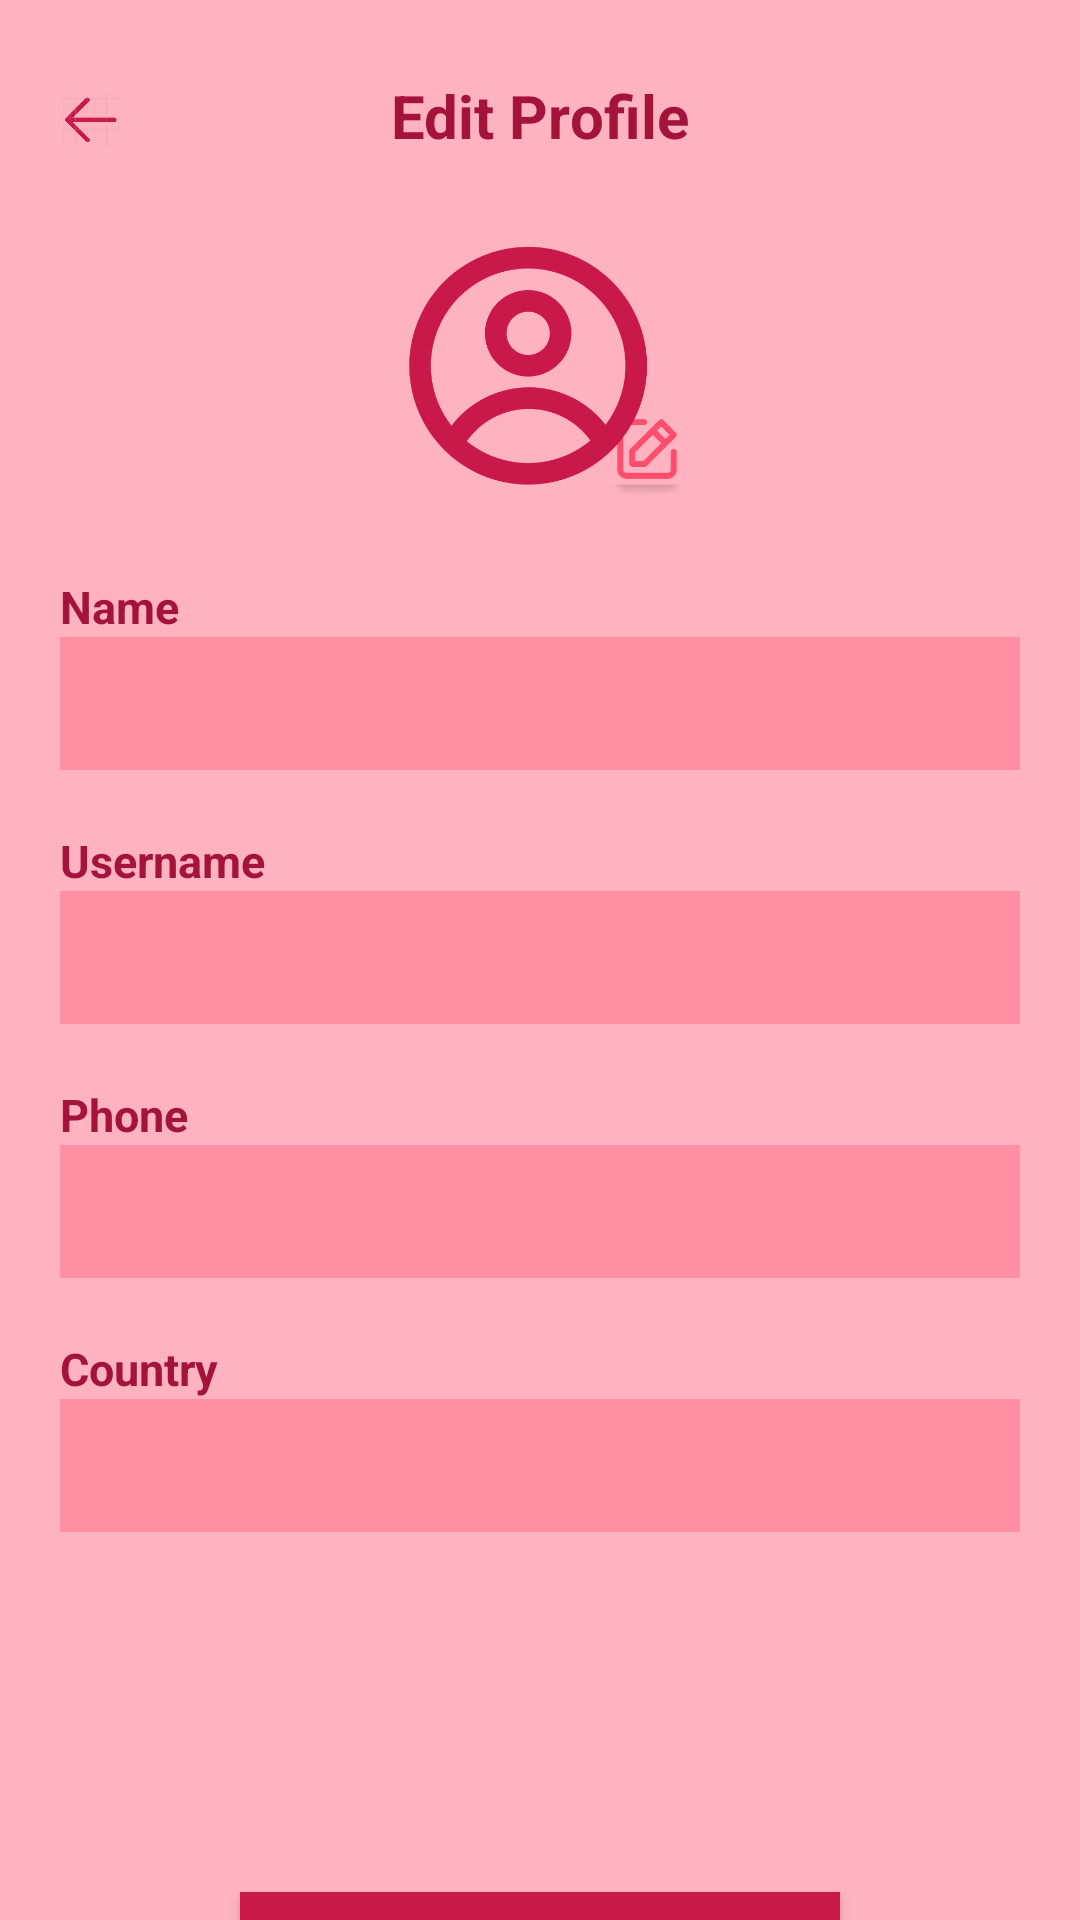

Point at icon controls on the screen. Image size 1080 x 1920, points as [x,y].
backbtncolor: [91,119]
